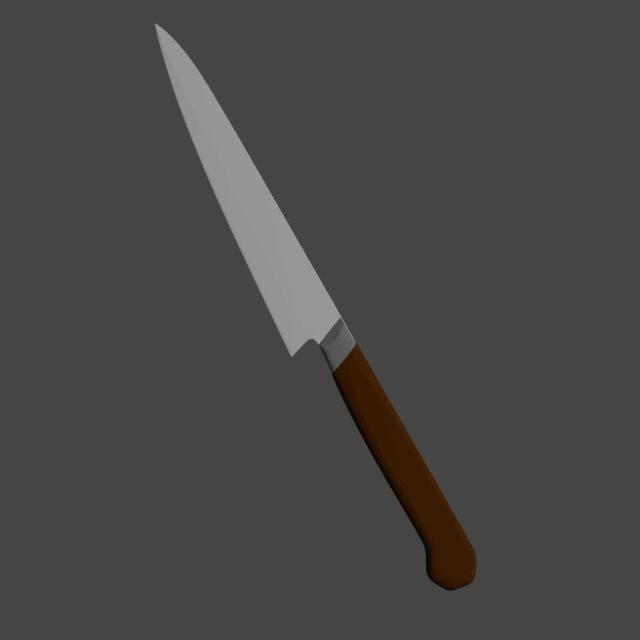knife: (331, 342, 477, 592)
